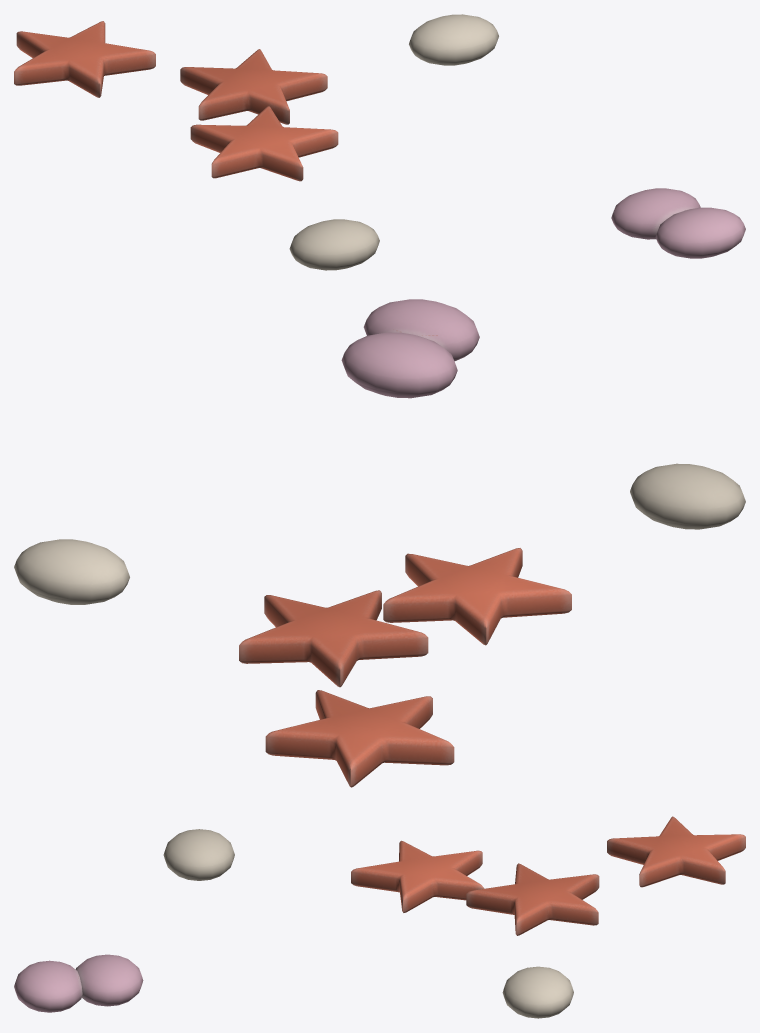
Rendered from tf_seashells.glb.
3 views of the same model, one above another, from view 1: azimuth 30°, elevation 25°; view 2: azimuth 150°, elevation 25°; view 3: azimuth 270°, elevation 25° (orthographic). The views are drawn at different scales.
Parts seen in each view (by area): view 1: tf_seashells; view 2: tf_seashells; view 3: tf_seashells.
Part boxes in pixels (left/top/right/bottom): tf_seashells: left=14, top=14, right=745, bottom=270; tf_seashells: left=14, top=299, right=745, bottom=787; tf_seashells: left=14, top=816, right=745, bottom=1018.
Bounding box in the file's own units: 1.3 × 0.117 × 2.13.
3 materials, 3 textured.
